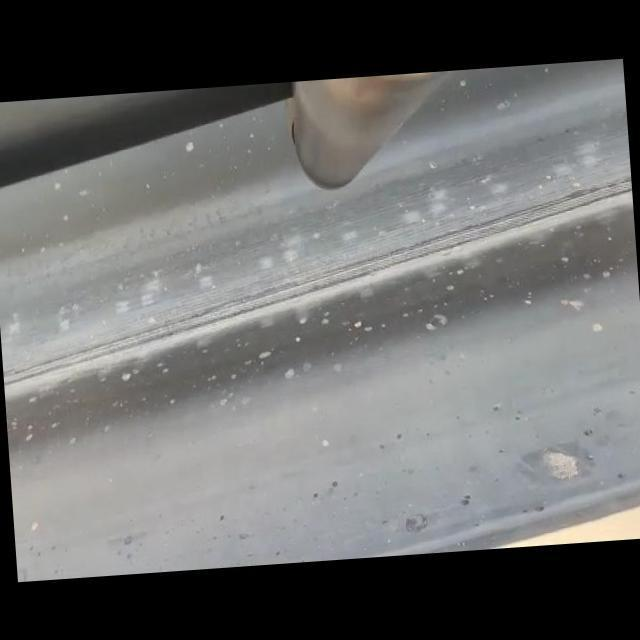Wear: (0, 172, 640, 396)
